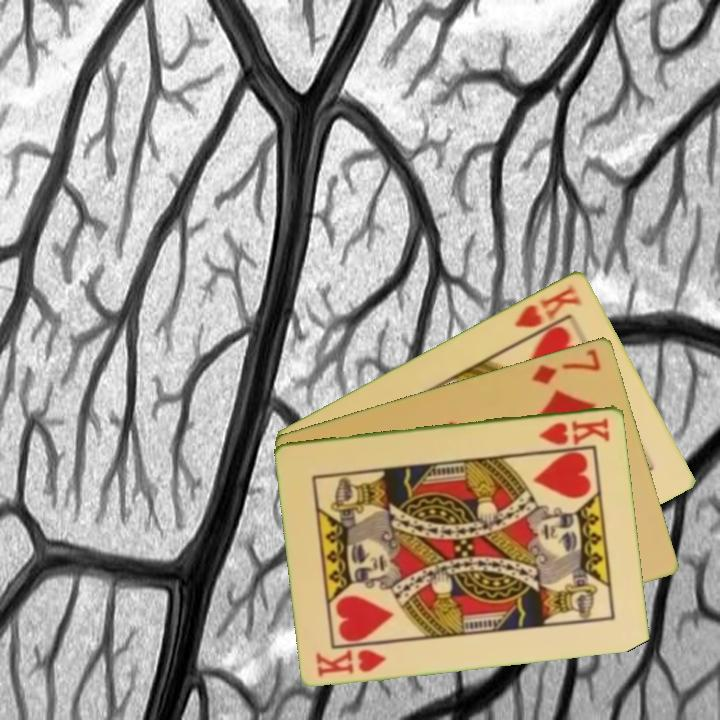7d: (529, 345, 604, 387)
Kh: (511, 280, 584, 344), (312, 645, 389, 680), (536, 414, 613, 448)
